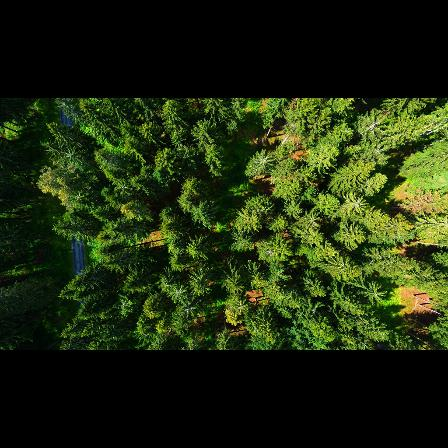Sick: (355, 108, 391, 138), (337, 192, 372, 216), (165, 280, 188, 305)
